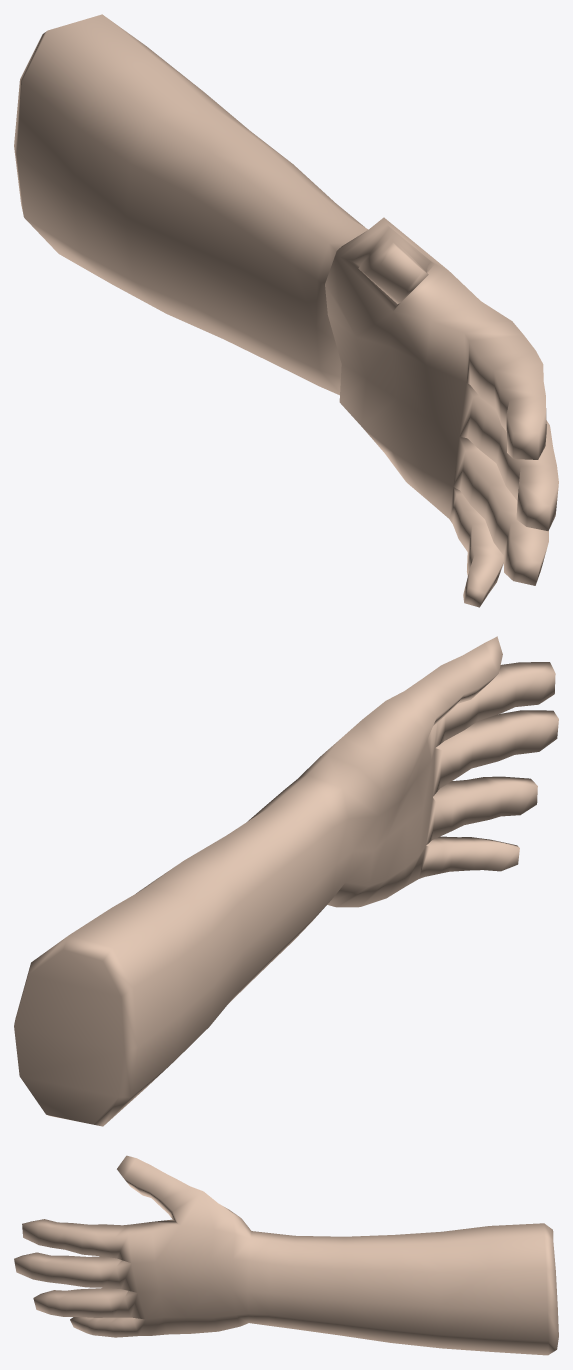
Rendered from Boss_Hand.fbx.
The picture shows the model from 3 angles, top to bottom: view 1: azimuth 30°, elevation 25°; view 2: azimuth 150°, elevation 25°; view 3: azimuth 270°, elevation 25°; orthographic projection. The views are drawn at different scales.
Parts seen in each view (by area): view 1: hand_basemesh; view 2: hand_basemesh; view 3: hand_basemesh.
Boxes of the visible parts, <box> form: hand_basemesh: <box>14,14,558,607</box>; hand_basemesh: <box>14,636,558,1126</box>; hand_basemesh: <box>14,1155,558,1355</box>.
Bounding box in the file's own units: 9.23 × 14.31 × 42.74.
